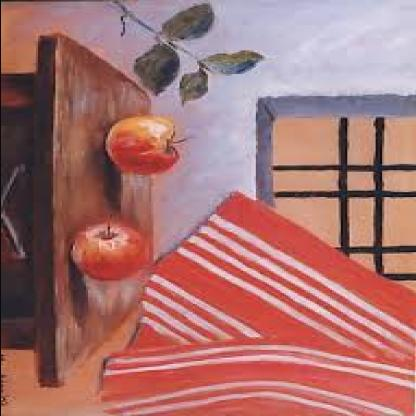apple: (72, 220, 152, 284), (107, 116, 183, 180)
